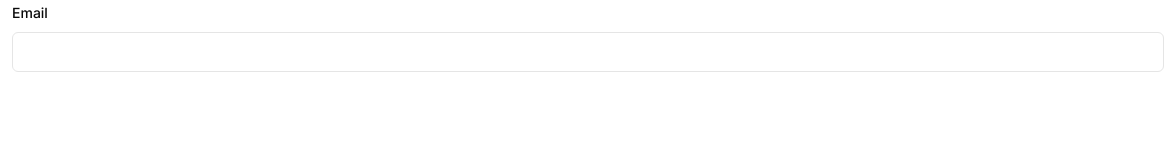
Test case: ValidatedInput › validates input against pattern when provided
Later steps or results of the test are not shown.
Enter invalid email
Type "invalid-email" into the field labelled "Email".
click(588, 52); type("invalid-email")  # box [12,32,1164,72]
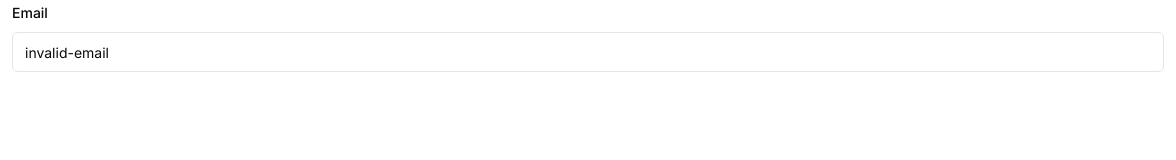
Leave the field labelled "Email", box [12,32,1164,72]
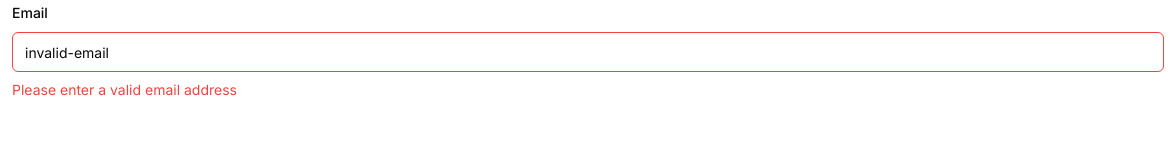
expect the text "Please enter a valid email address" is shown: met, box [12,81,237,98]
